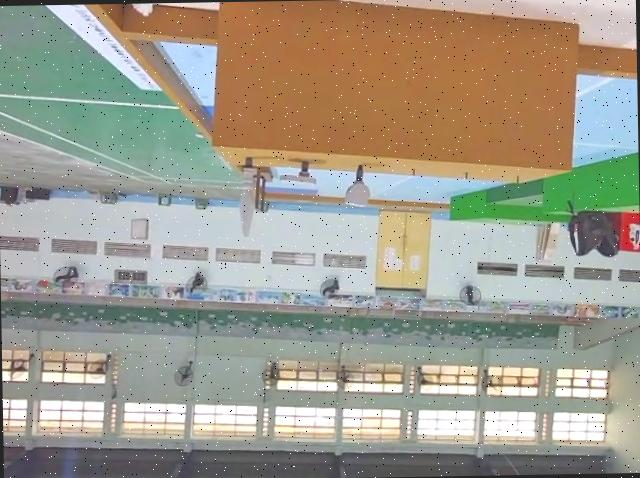Fist: (344, 166, 373, 211)
Hand: (277, 158, 318, 189)
Sph: (235, 158, 253, 240)
